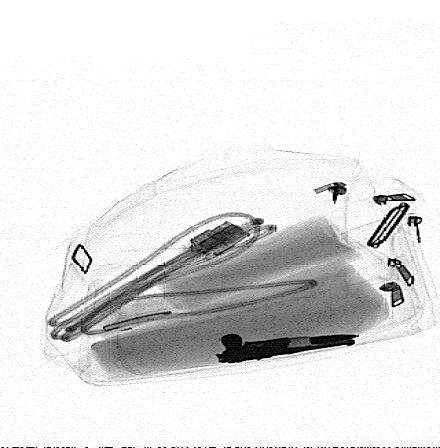Bullet: (241, 334, 359, 355)
Gun: (218, 333, 355, 364)
